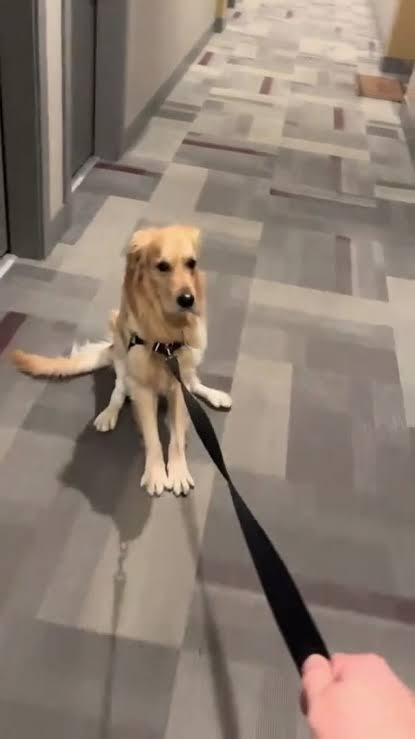adult_dog: (10, 223, 233, 497)
